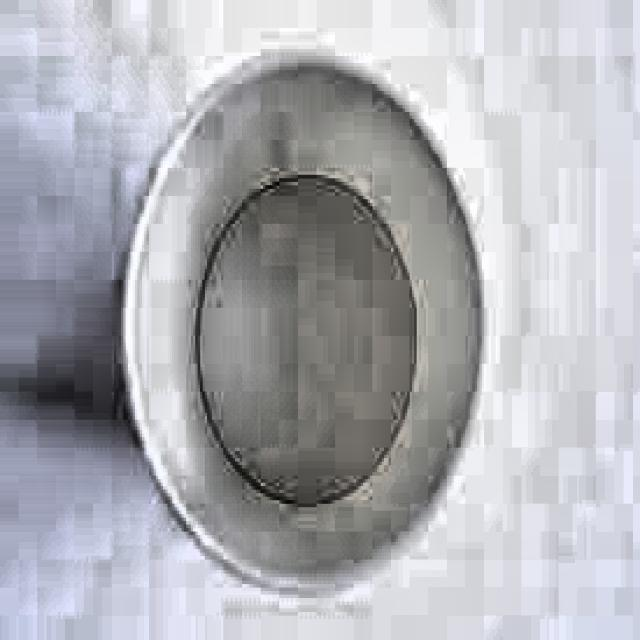Cup: (91, 41, 497, 610)
